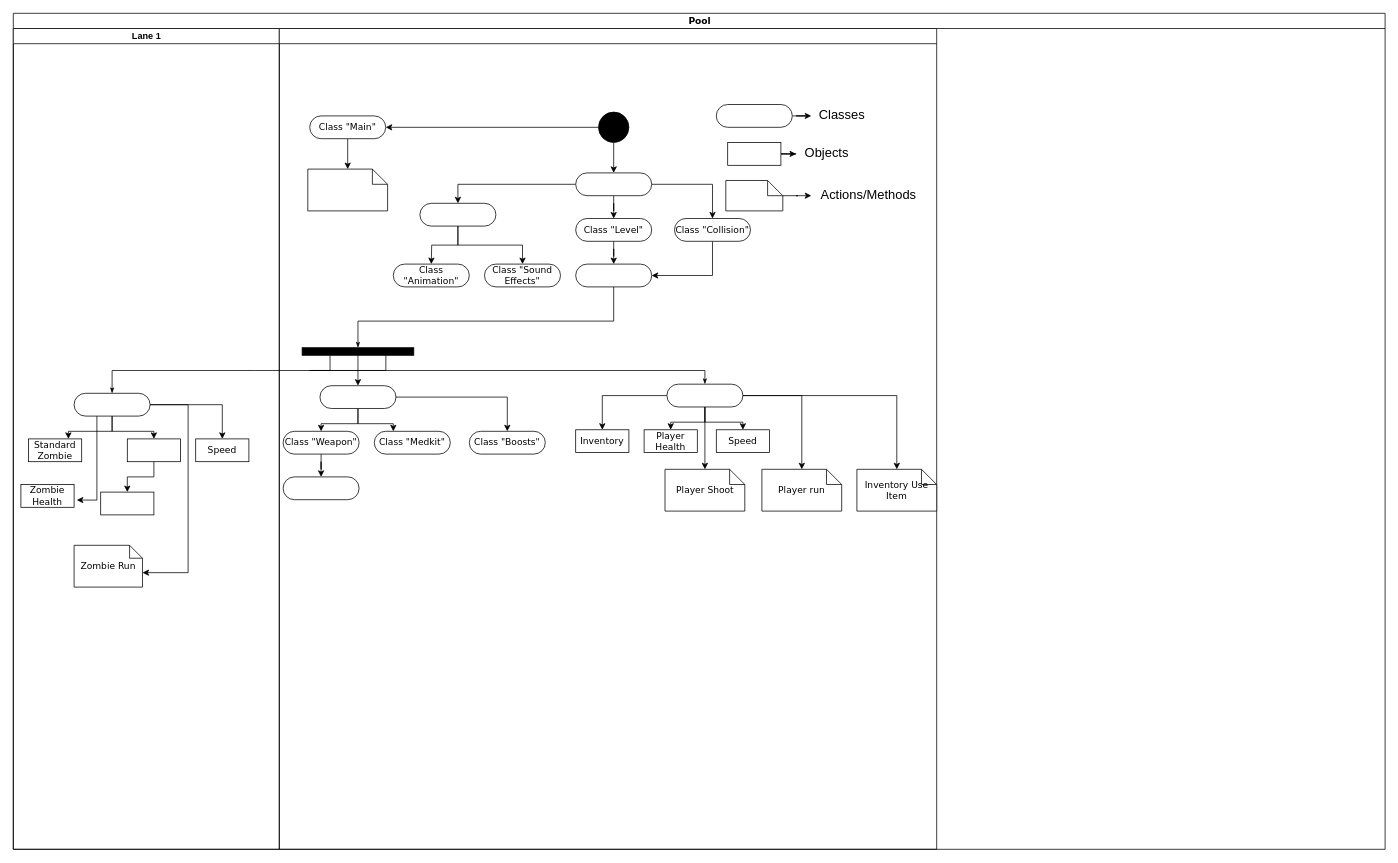
This 1398x863 diagram has some shape labels left out. The centre of each missing label's shape, as x and y in pixels:
Boss Zombie: point (153, 450)
Class "Bullet": point (320, 488)
Class "Graphics": point (457, 214)
Class "Inventory": point (357, 396)
Class "Menu": point (613, 184)
Class "Platform": point (613, 275)
Class "Player": point (704, 395)
Class "Zombie": point (111, 404)
Implementation: point (347, 189)
Middle Zombies: point (127, 503)
